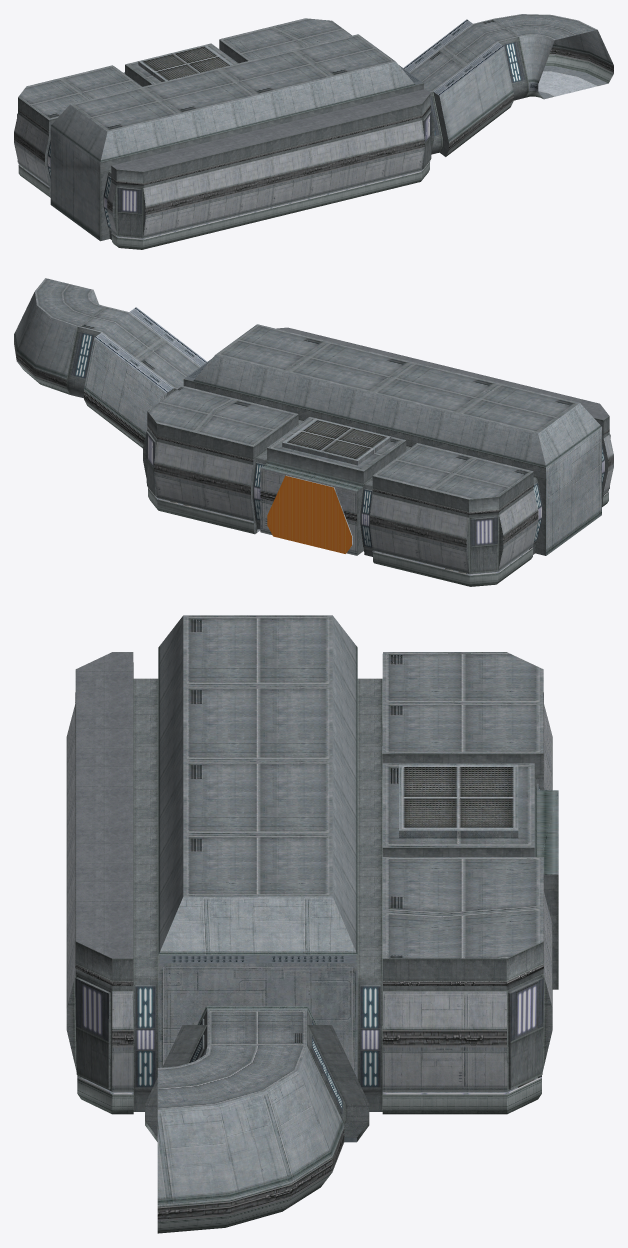
File: thm_newbie_hall_r11_mesh_r11.fbx
The picture shows the model from 3 angles, top to bottom: view 1: azimuth 30°, elevation 25°; view 2: azimuth 150°, elevation 25°; view 3: azimuth 270°, elevation 25°; orthographic projection. The views are drawn at different scales.
Visible parts, largest first — view 1: mesh_node; view 2: mesh_node; view 3: mesh_node.
Boxes of the visible parts, <box> form: mesh_node: <box>14,14,613,249</box>; mesh_node: <box>14,278,613,586</box>; mesh_node: <box>66,615,558,1233</box>.
Bounding box in the file's own units: 47.6 × 9 × 19.86.
